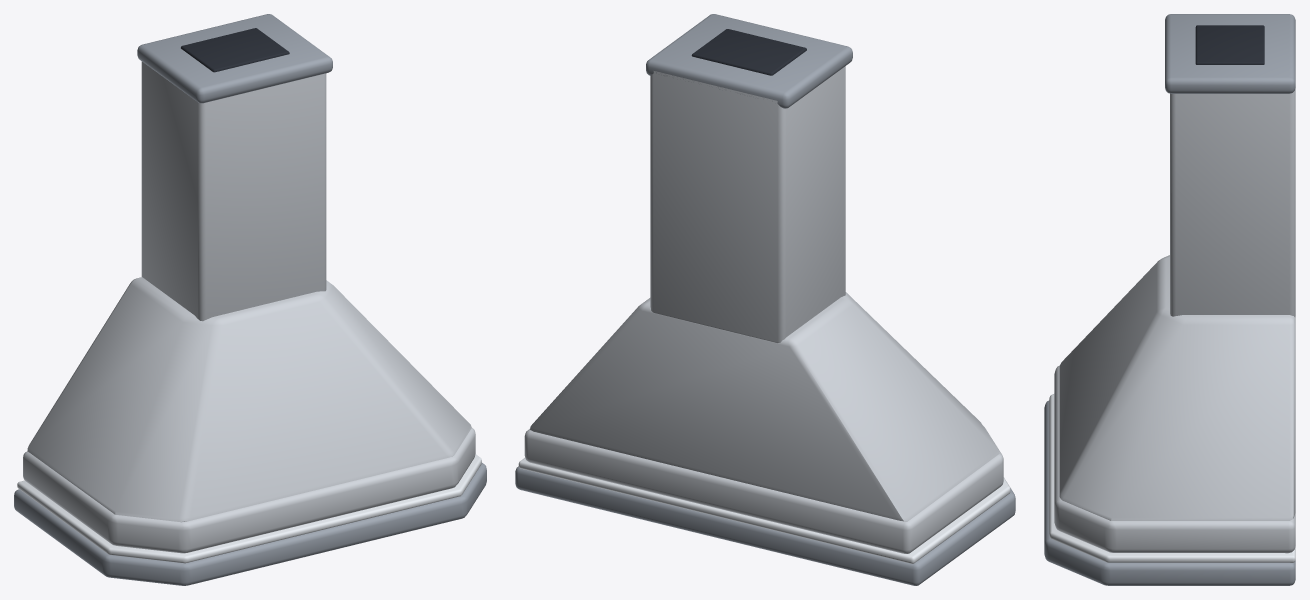
Rendered from coifa_piramide_inox.glb.
3 views of the same model, side by side, from view 1: azimuth 30°, elevation 25°; view 2: azimuth 150°, elevation 25°; view 3: azimuth 270°, elevation 25° (orthographic). The views are drawn at different scales.
Parts seen in each view (by area): view 1: coifa_piramide_inox; view 2: coifa_piramide_inox; view 3: coifa_piramide_inox.
Boxes of the visible parts, bbox=[...] form: coifa_piramide_inox: bbox=[14, 14, 486, 585]; coifa_piramide_inox: bbox=[515, 14, 1015, 585]; coifa_piramide_inox: bbox=[1044, 14, 1295, 585].
Size of the model in its own units: 0.9 by 0.989 by 0.5.
Materials: 2 (1 with a texture image).
